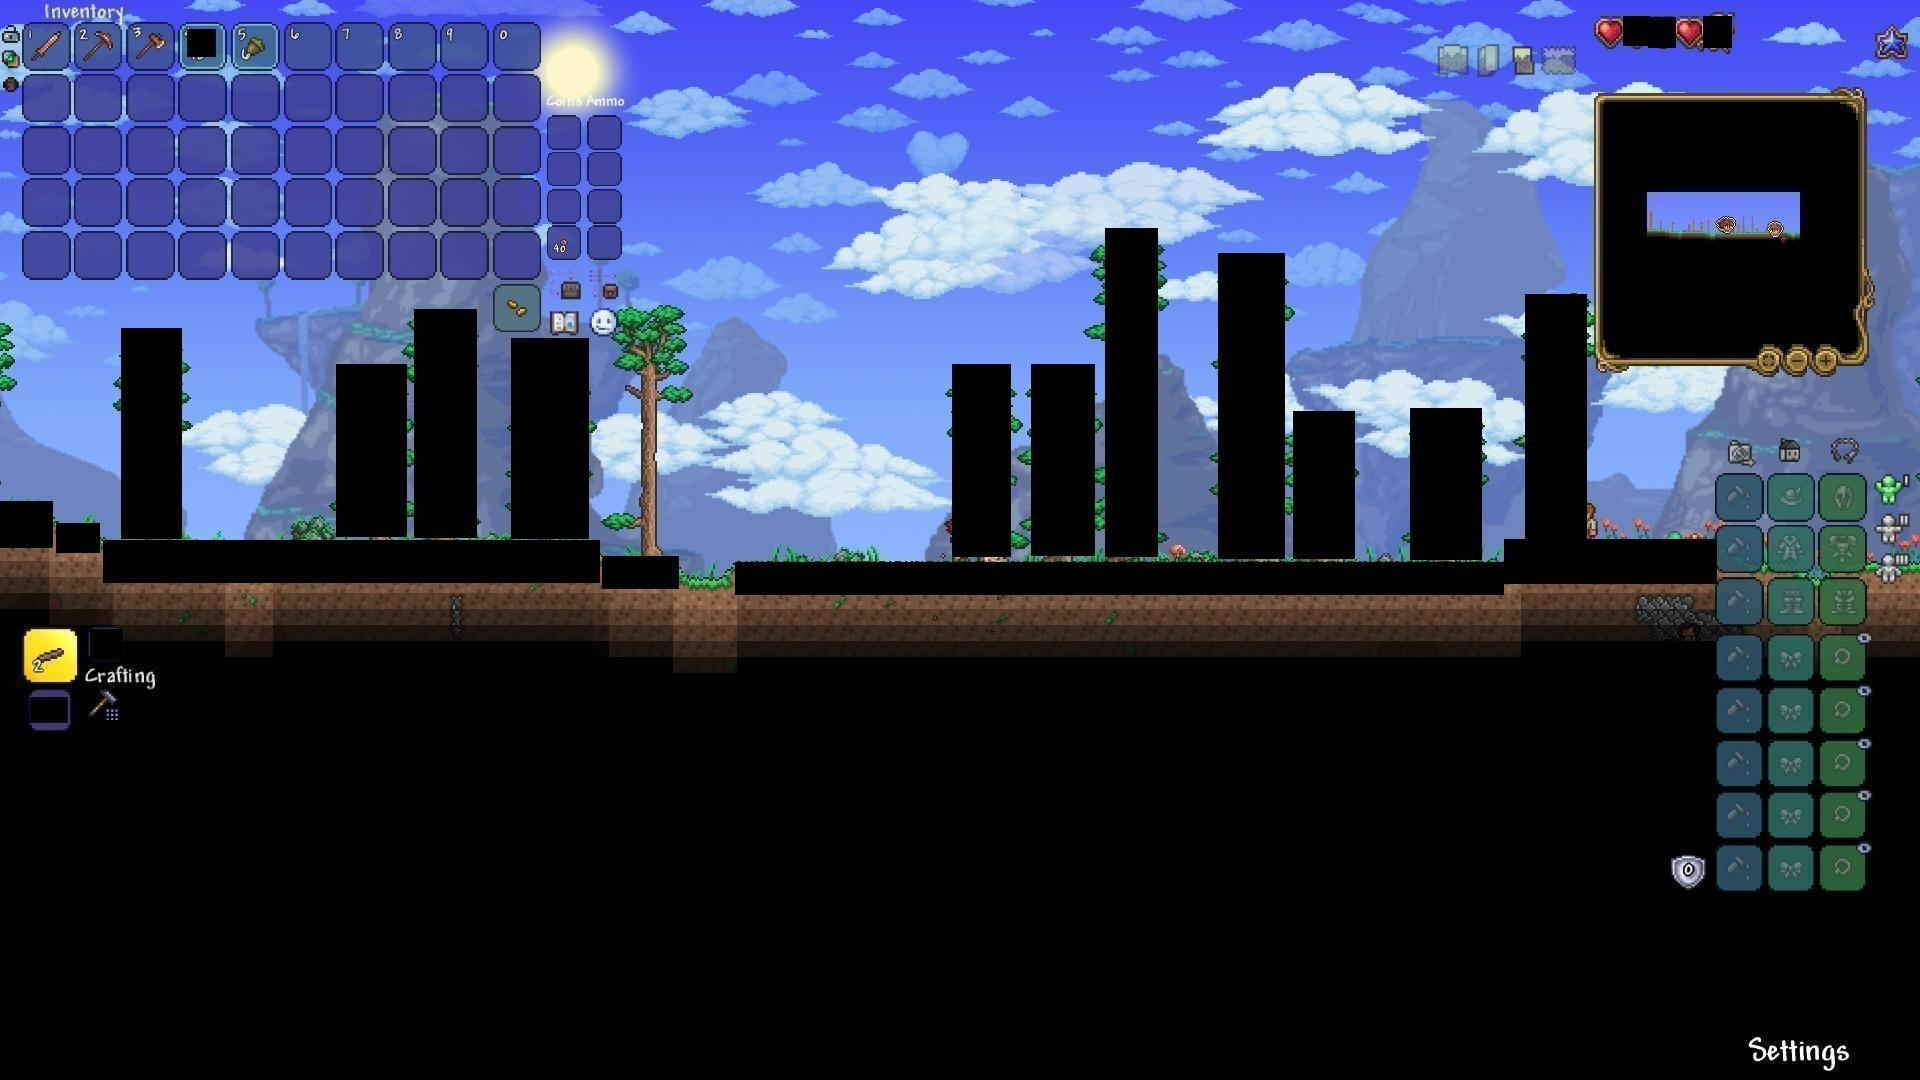dirt: (679, 567, 732, 592)
heart: (1597, 16, 1626, 45), (1676, 17, 1704, 47)
tree: (622, 298, 684, 553)
